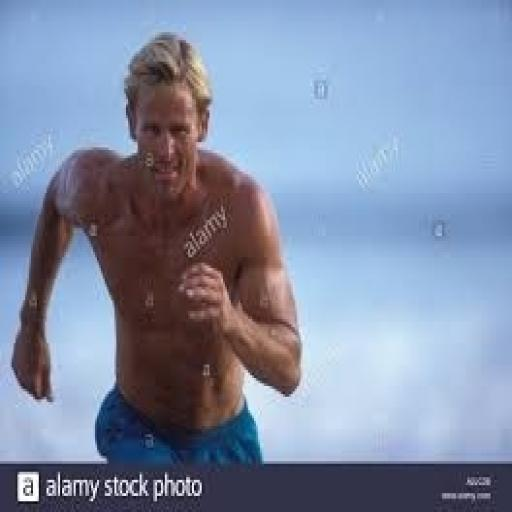running: (10, 30, 306, 469)
